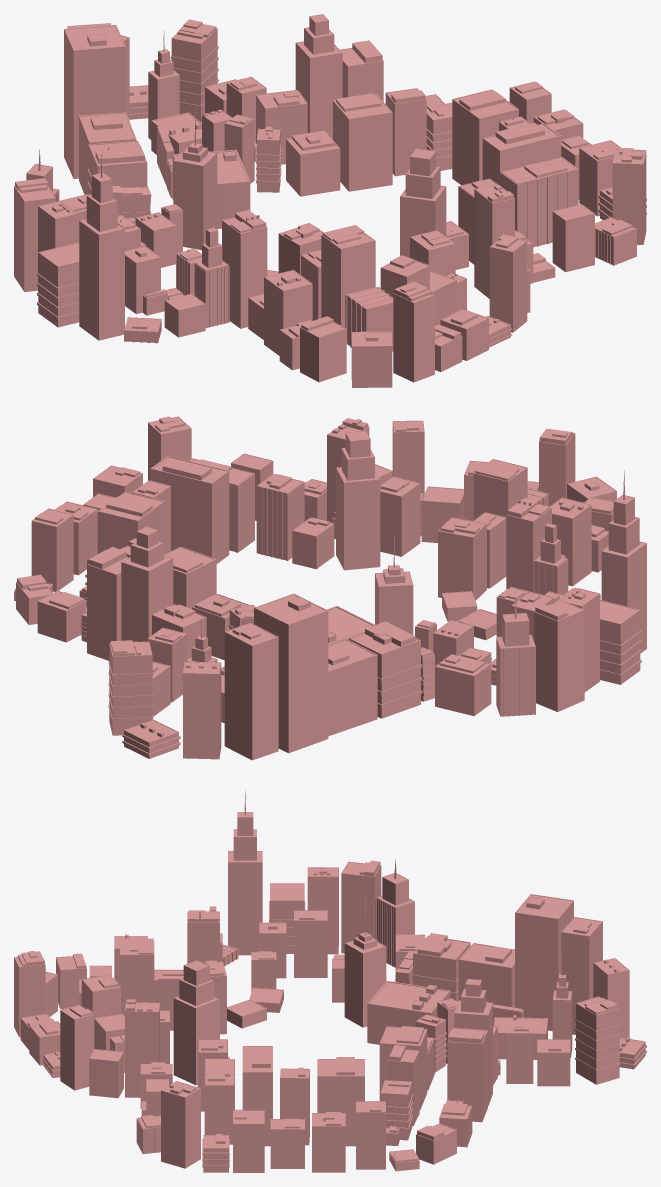
File: Building.fbx
3 renders of one model, top to bottom at view 1: azimuth 30°, elevation 25°; view 2: azimuth 150°, elevation 25°; view 3: azimuth 270°, elevation 25°, orthographic. The views are drawn at different scales.
Parts seen in each view (by area): view 1: City:haikei:City:grp_building_geo1; view 2: City:haikei:City:grp_building_geo1; view 3: City:haikei:City:grp_building_geo1.
Part boxes in pixels (<box>): City:haikei:City:grp_building_geo1: <box>14,14,646,387</box>; City:haikei:City:grp_building_geo1: <box>14,416,646,760</box>; City:haikei:City:grp_building_geo1: <box>14,791,646,1172</box>.
Bounding box in the file's own units: 21.43 × 6.83 × 24.21.
